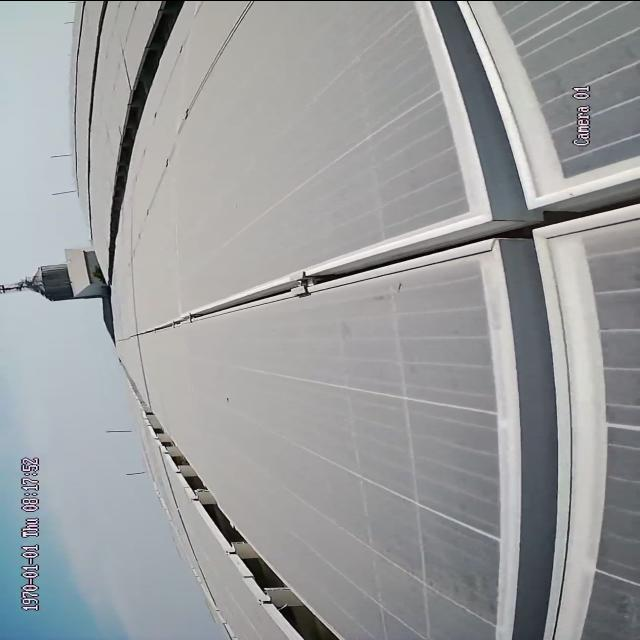interior panel: (143, 0, 640, 638)
outher panel: (138, 398, 344, 638), (105, 2, 185, 256)
